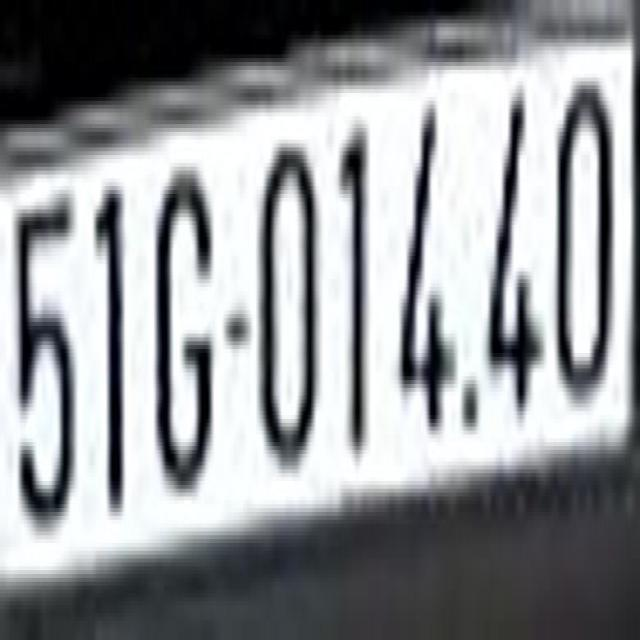0: (253, 112, 321, 474), (554, 58, 617, 400)
1: (90, 167, 136, 520), (333, 97, 375, 462)
4: (394, 81, 459, 438), (482, 66, 546, 419)
5: (9, 186, 79, 528)
G: (148, 155, 214, 493)
